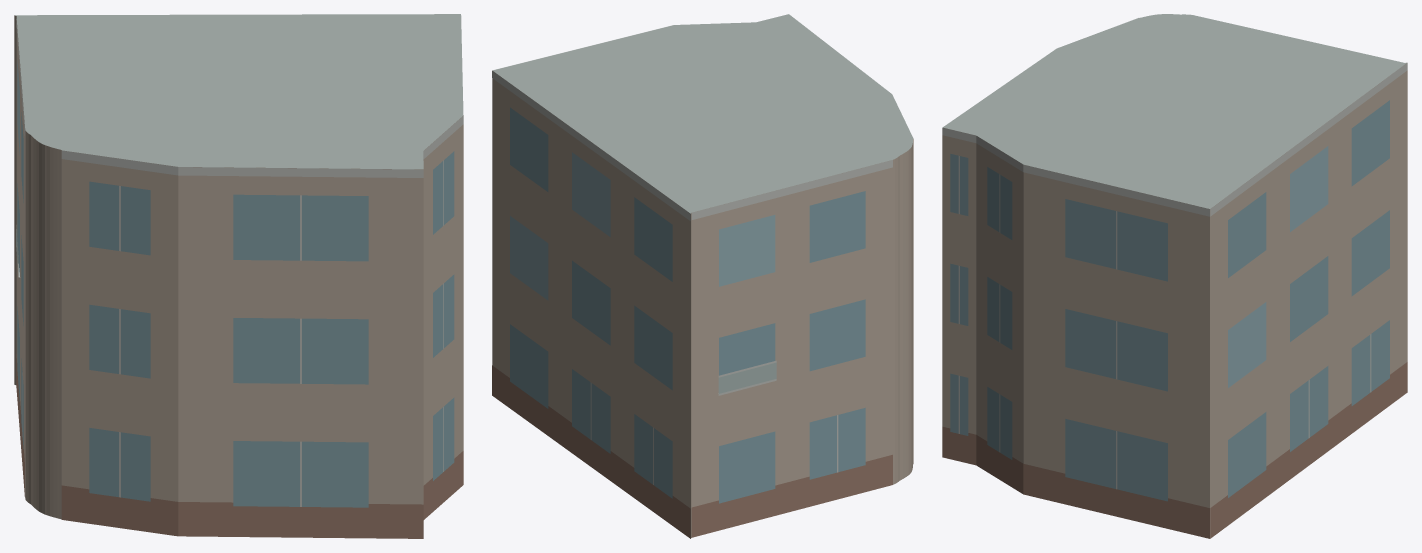
The model's file is survey-upis-32773526.glb.
3 views of the same model, side by side, from view 1: azimuth 30°, elevation 25°; view 2: azimuth 150°, elevation 25°; view 3: azimuth 270°, elevation 25° (orthographic). The views are drawn at different scales.
Visible parts, largest first — view 1: survey-upis-32773526.tmp; view 2: survey-upis-32773526.tmp; view 3: survey-upis-32773526.tmp.
Boxes of the visible parts, left/top/right/bottom form: survey-upis-32773526.tmp: left=14, top=14, right=463, bottom=538; survey-upis-32773526.tmp: left=492, top=14, right=913, bottom=538; survey-upis-32773526.tmp: left=942, top=14, right=1407, bottom=538.
Bounding box in the file's own units: 13.22 × 10.41 × 13.32.
